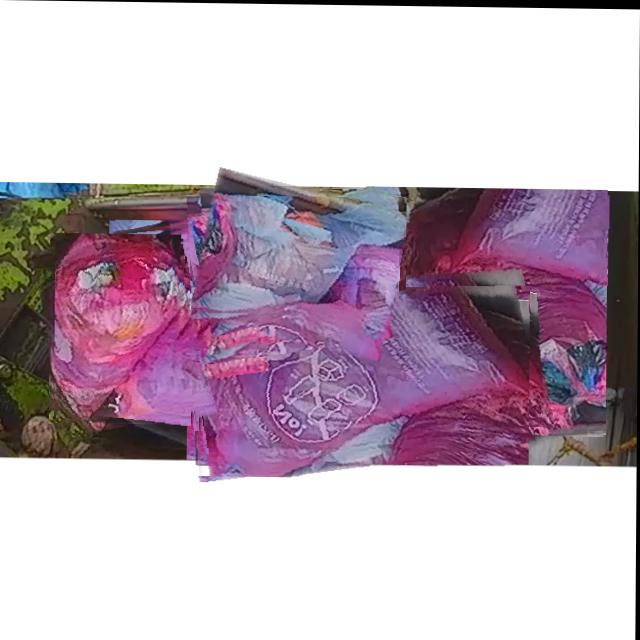other_trashbag: (191, 286, 529, 476), (370, 187, 607, 430), (190, 195, 406, 314), (55, 234, 182, 424), (115, 220, 259, 351)
